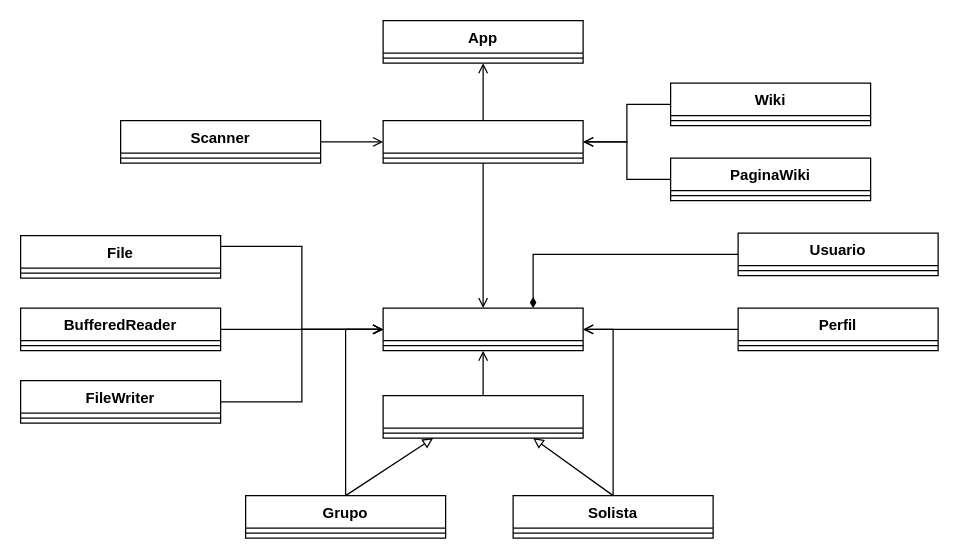
Some shapes in this 959 by 559 pixel diagram are drawn without their labels. Each missing label, with the centre of its shape:
"Administracao" goes at (482,329).
"Carreira" goes at (482,416).
"Ui" goes at (482,141).
